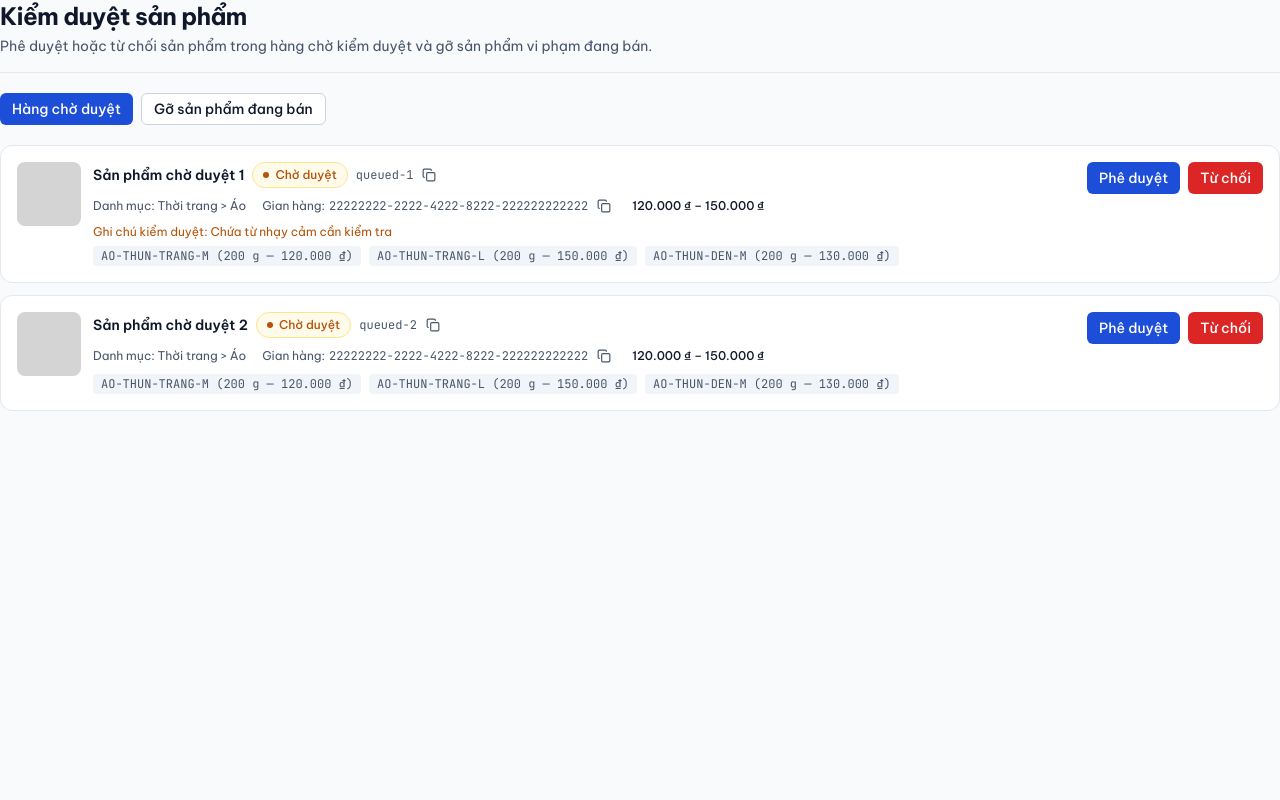
AdminCategoriesPage & AdminProductModerationPage (T3-07) › approves queued product, rejects with AuditReasonDialog, and supports ACTIVE takedown (FR-PRD-009)
Later steps or results of the test are not shown.
Expected: the heading "Sản phẩm chờ duyệt 1" is shown, [93,164,244,186]
Click the button "Phê duyệt" in the row of "Sản phẩm chờ duyệt 1": x=1134, y=178 [1087,162,1180,194]
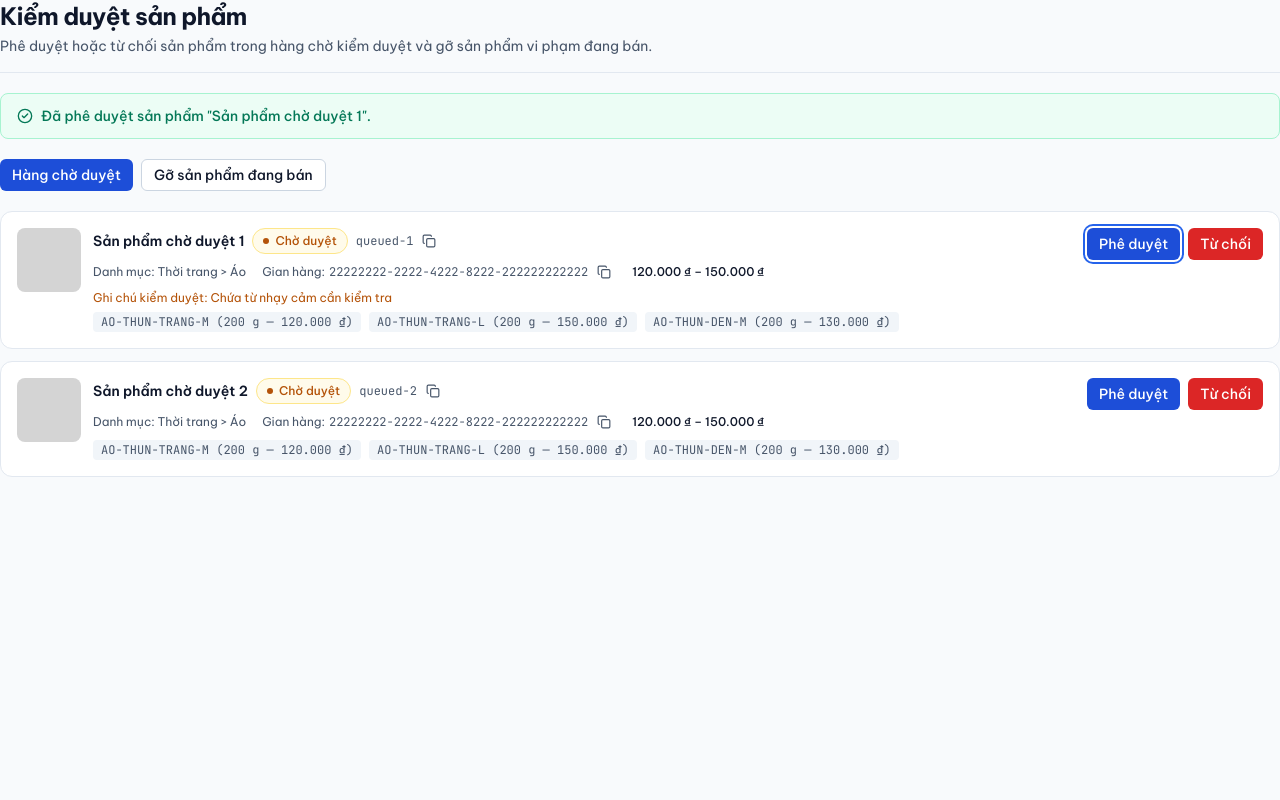
Now the text "Đã phê duyệt sản phẩm \"Sản phẩm chờ duyệt 1\"." is shown, box [17,106,371,126]
Click the button "Từ chối" in the row of "Sản phẩm chờ duyệt 2": x=1226, y=394 [1188,378,1263,410]
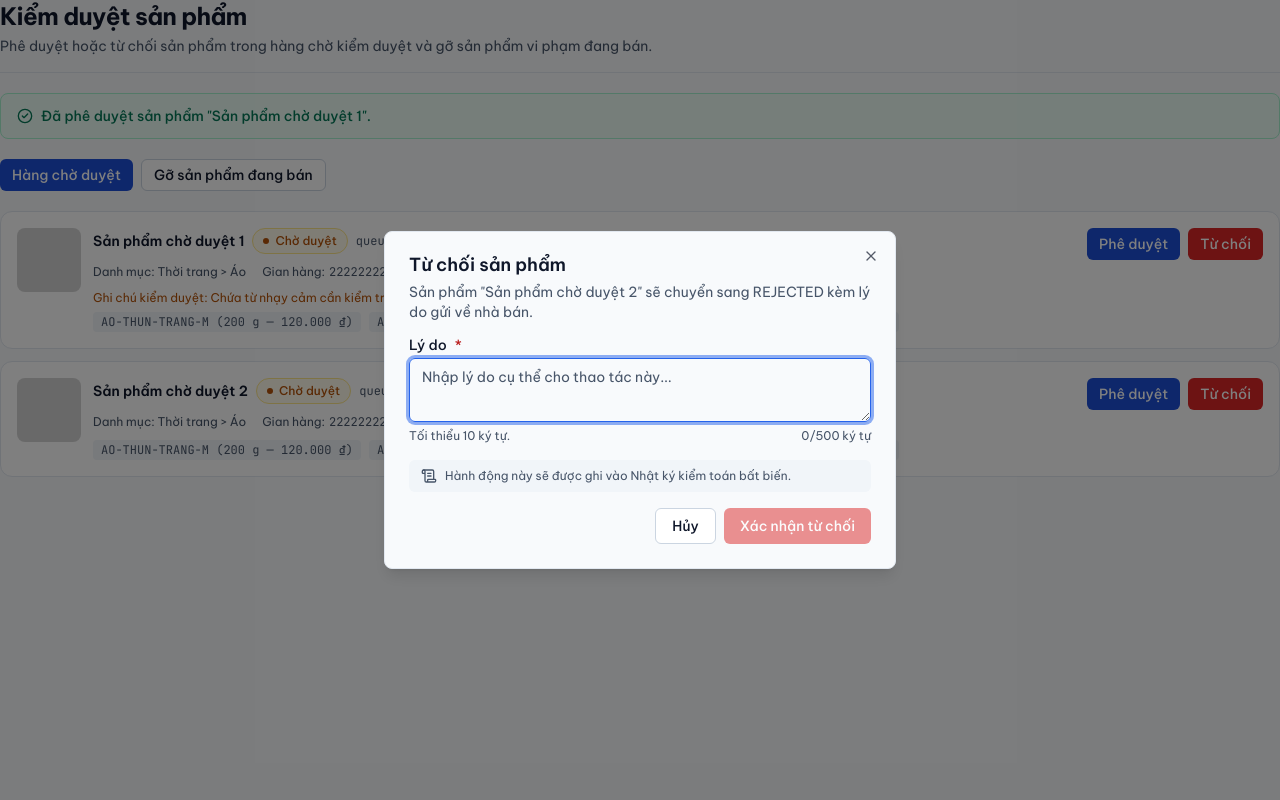
In the text box labelled "Lý do *": x=640, y=390 [409,358,871,422], type "Hình ảnh mờ không đúng mô tả sản phẩm."
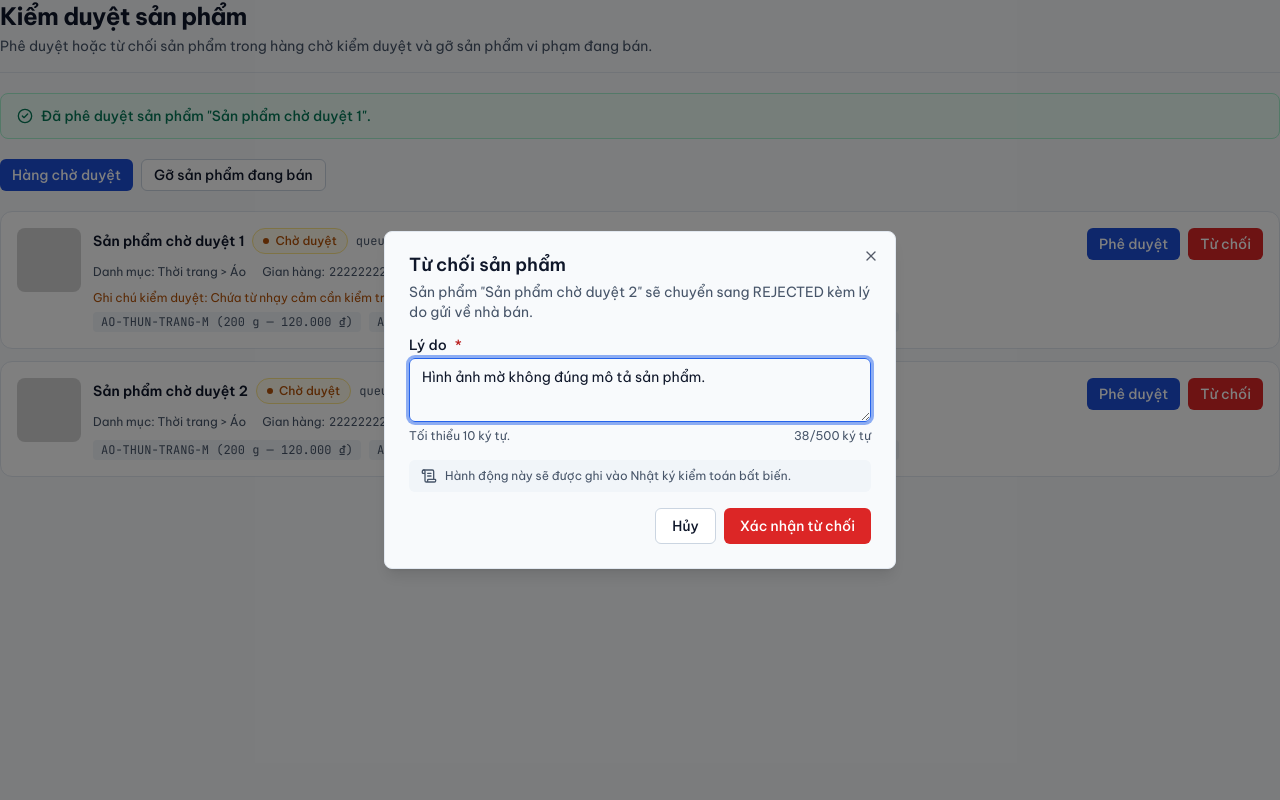
Click the button "Xác nhận từ chối": x=797, y=526 [724,508,871,544]
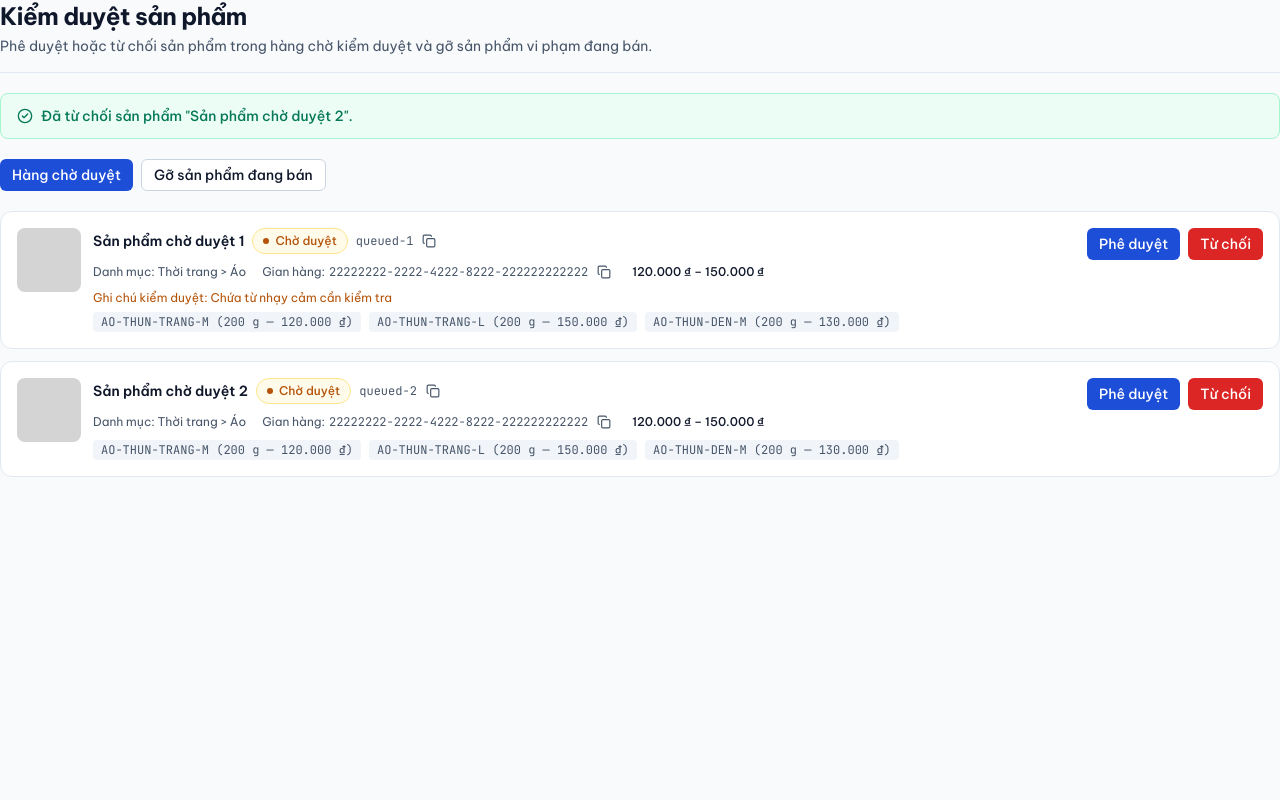
Click the tab "Gỡ sản phẩm đang bán": x=233, y=175 [141,159,326,191]
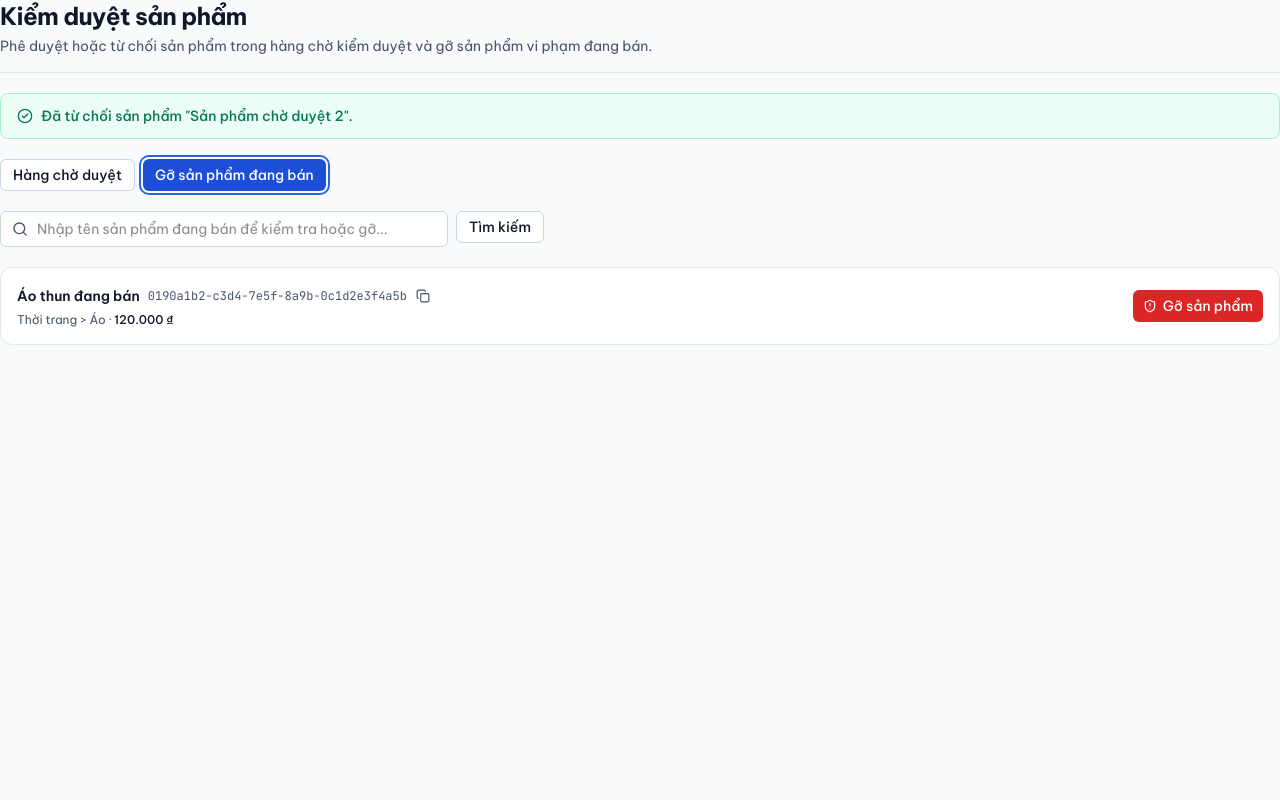
Now the text "Áo thun đang bán" is shown, box [17,285,140,307]
